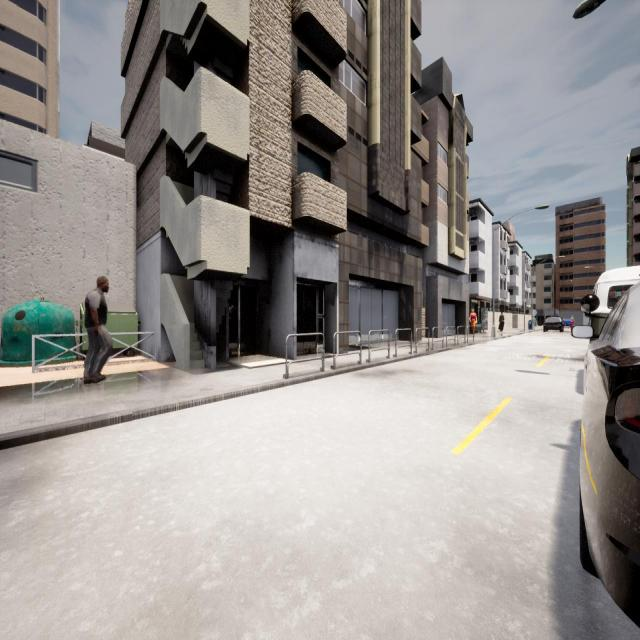Pedestrian: (84, 276, 112, 383), (468, 307, 478, 339), (499, 309, 504, 336), (569, 314, 575, 332)
Traffic_Signs: (532, 308, 538, 315)
Vehicle: (580, 282, 640, 625), (593, 266, 640, 327), (543, 315, 564, 333)
